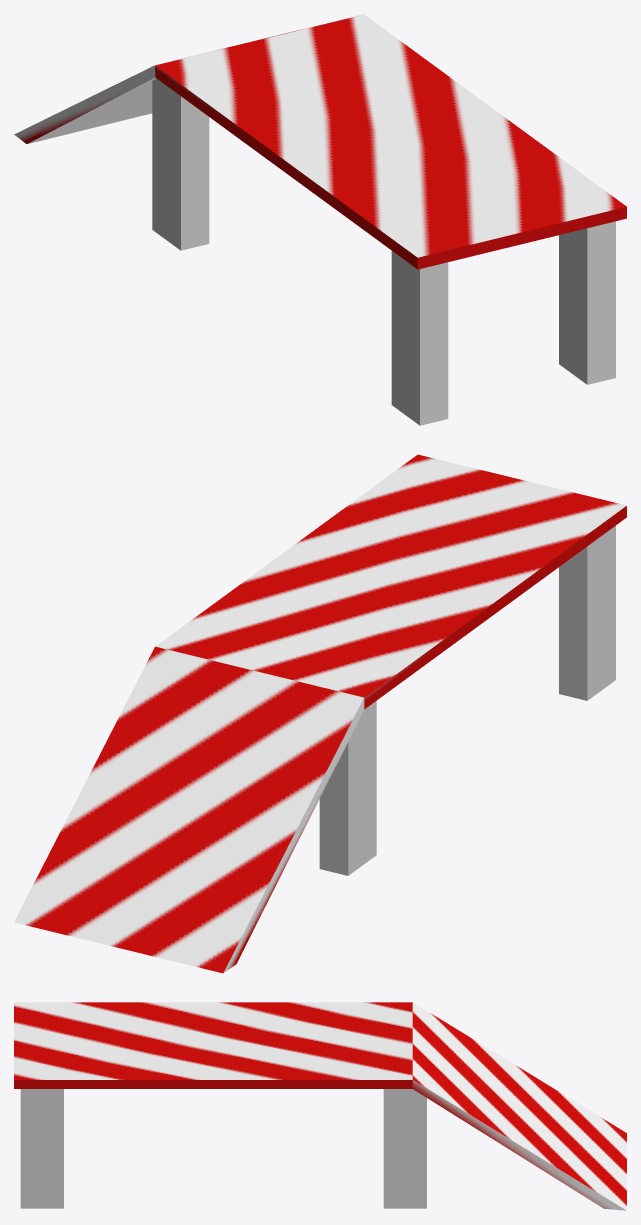
File: Obstacle_Ramp.fbx
The picture shows the model from 3 angles, top to bottom: view 1: azimuth 30°, elevation 25°; view 2: azimuth 150°, elevation 25°; view 3: azimuth 270°, elevation 25°; orthographic projection. The views are drawn at different scales.
Parts seen in each view (by area): view 1: ramp, back_right_stick, front_right_stick, back_left_stick, climp; view 2: climp, ramp, back_right_stick, front_right_stick; view 3: ramp, climp, back_left_stick, front_left_stick.
Part boxes in pixels (x1,y1,x2,y2): ramp: (155, 14, 626, 269); back_right_stick: (391, 251, 448, 425); front_right_stick: (152, 78, 209, 250); back_left_stick: (559, 221, 615, 384); climp: (14, 14, 363, 143); climp: (14, 646, 364, 973); ramp: (156, 454, 626, 709); back_right_stick: (559, 525, 615, 700); front_right_stick: (319, 701, 376, 875); ramp: (14, 1002, 412, 1088); climp: (412, 1002, 626, 1210); back_left_stick: (20, 1089, 63, 1208); front_left_stick: (383, 1089, 426, 1208).
Bounding box in the file's own units: 501 × 396 × 1672.
